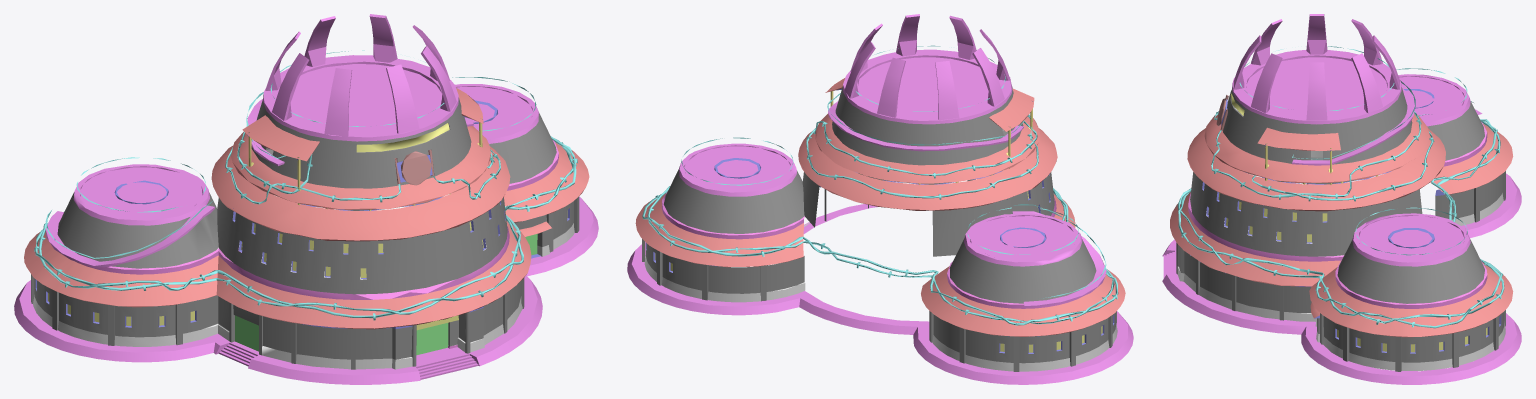
The model's file is SM_ENV_LKNVLD_Hokage_Lod3.gltf.
3 renders of one model, left to right at view 1: azimuth 30°, elevation 25°; view 2: azimuth 150°, elevation 25°; view 3: azimuth 270°, elevation 25°, orthographic. The views are drawn at different scales.
Parts seen in each view (by area): view 1: SM_ENV_LKNVLD_Hokage_Lod3; view 2: SM_ENV_LKNVLD_Hokage_Lod3; view 3: SM_ENV_LKNVLD_Hokage_Lod3.
Boxes of the visible parts, bbox=[...] form: SM_ENV_LKNVLD_Hokage_Lod3: bbox=[14, 14, 598, 384]; SM_ENV_LKNVLD_Hokage_Lod3: bbox=[627, 14, 1133, 384]; SM_ENV_LKNVLD_Hokage_Lod3: bbox=[1162, 14, 1521, 384].
Bounding box in the file's own units: 76.66 × 35.45 × 50.1.
